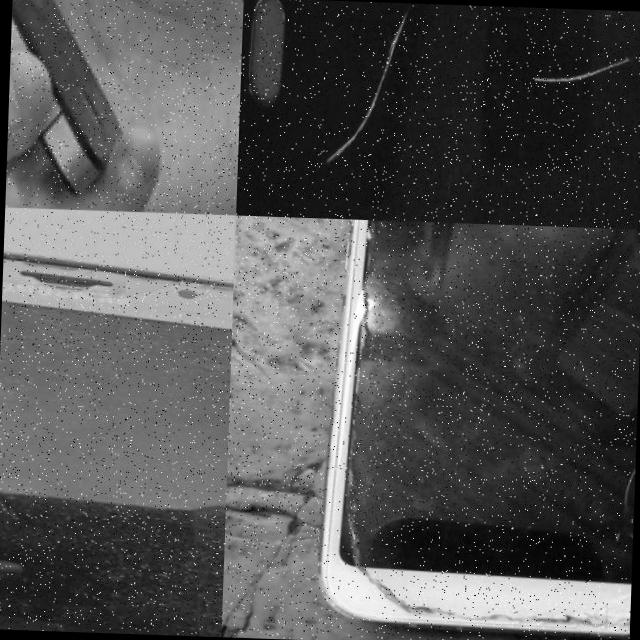scratch: (320, 0, 414, 189), (525, 37, 632, 110)
screen crack: (322, 231, 409, 428), (585, 494, 634, 640)
